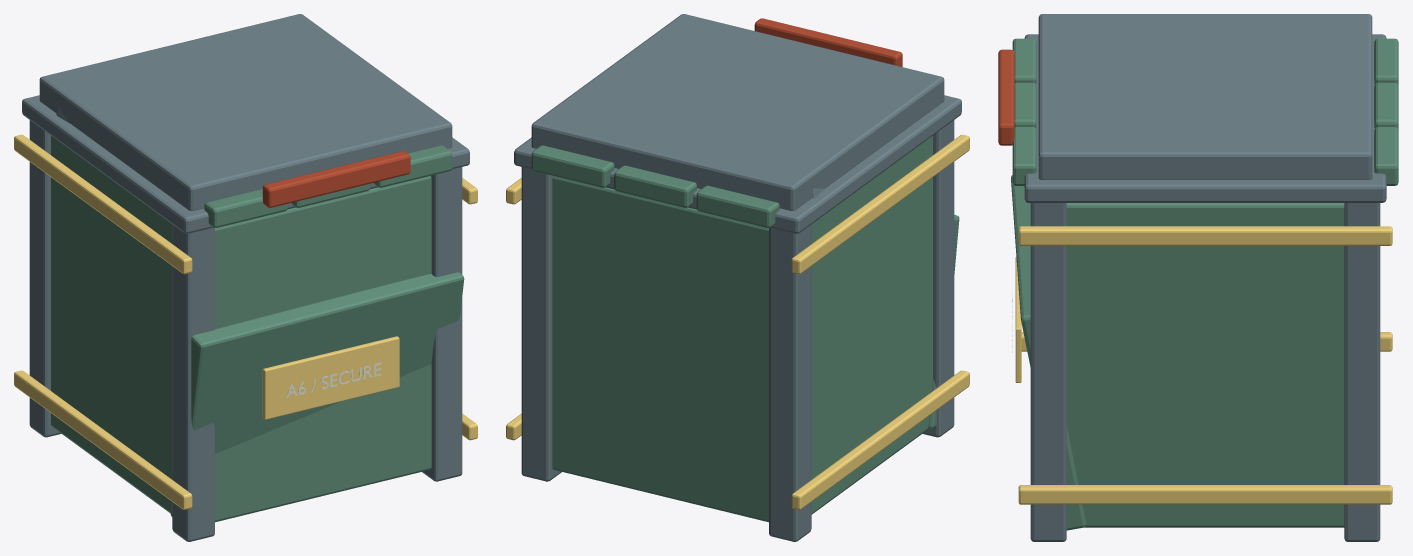
Rendered from secure_case_d2.glb.
The picture shows the model from 3 angles, left to right: view 1: azimuth 30°, elevation 25°; view 2: azimuth 150°, elevation 25°; view 3: azimuth 270°, elevation 25°; orthographic projection. The views are drawn at different scales.
Visible parts, largest first — view 1: Crate shell.011, Reinforced lid.005, Compressed front panel.003, Corner post.044, Corner post.046, Identification placard.011, Corner post.045, Solid crate lid.011, Vertical tie band.044, Vertical tie band.045, Lock bar.005, Lid slat.066 (+3 smaller); view 2: Crate shell.011, Reinforced lid.005, Corner post.045, Corner post.047, Corner post.044, Solid crate lid.011, Vertical tie band.044, Vertical tie band.045, Lock bar.005, Lid slat.069, Lid slat.071, Lid slat.070; view 3: Crate shell.011, Reinforced lid.005, Corner post.046, Corner post.047, Solid crate lid.011, Vertical tie band.047, Vertical tie band.046, Compressed front panel.003, Lock bar.005, Lid slat.071, Lid slat.068, Lid slat.069 (+4 smaller).
Boxes of the visible parts, x1,y1,x2,y2 form: Crate shell.011: (51, 136, 431, 522); Reinforced lid.005: (39, 14, 452, 210); Compressed front panel.003: (170, 272, 464, 516); Corner post.044: (172, 224, 214, 541); Corner post.046: (422, 167, 462, 481); Identification placard.011: (262, 336, 399, 419); Corner post.045: (29, 120, 61, 437); Solid crate lid.011: (22, 95, 469, 233); Vertical tie band.044: (14, 370, 192, 509); Vertical tie band.045: (14, 134, 192, 274); Lock bar.005: (262, 151, 410, 207); Lid slat.066: (204, 189, 287, 227); Crate shell.011: (552, 136, 932, 522); Reinforced lid.005: (531, 14, 944, 210); Corner post.045: (769, 224, 811, 541); Corner post.047: (521, 167, 561, 481); Corner post.044: (922, 120, 954, 437); Solid crate lid.011: (514, 95, 961, 233); Vertical tie band.044: (791, 370, 969, 509); Vertical tie band.045: (791, 134, 969, 274); Lock bar.005: (754, 18, 902, 66); Lid slat.069: (696, 185, 779, 227); Lid slat.071: (531, 145, 614, 187); Lid slat.070: (614, 165, 696, 207); Crate shell.011: (1066, 203, 1344, 527); Reinforced lid.005: (1038, 14, 1372, 179); Corner post.046: (1030, 203, 1066, 541); Corner post.047: (1344, 203, 1380, 541); Solid crate lid.011: (1024, 34, 1386, 202); Vertical tie band.047: (1018, 226, 1392, 245); Vertical tie band.046: (1018, 485, 1392, 504); Compressed front panel.003: (1011, 175, 1086, 530); Lock bar.005: (998, 49, 1014, 145); Lid slat.071: (1374, 127, 1398, 185); Lid slat.068: (1012, 127, 1036, 185); Lid slat.069: (1374, 38, 1398, 85).
Bounding box in the file's own units: 1.86 × 2.12 × 1.99.
